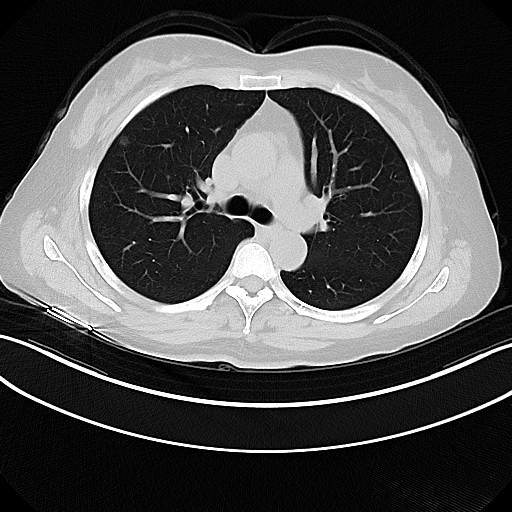nodule: (119, 134, 128, 145)
